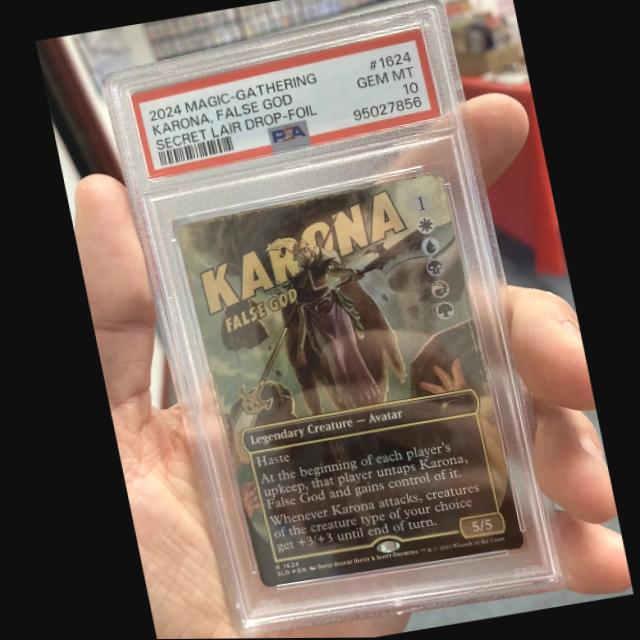card: (172, 170, 520, 590)
psa_label: (128, 28, 440, 179)
psa_slab: (98, 0, 568, 639)
